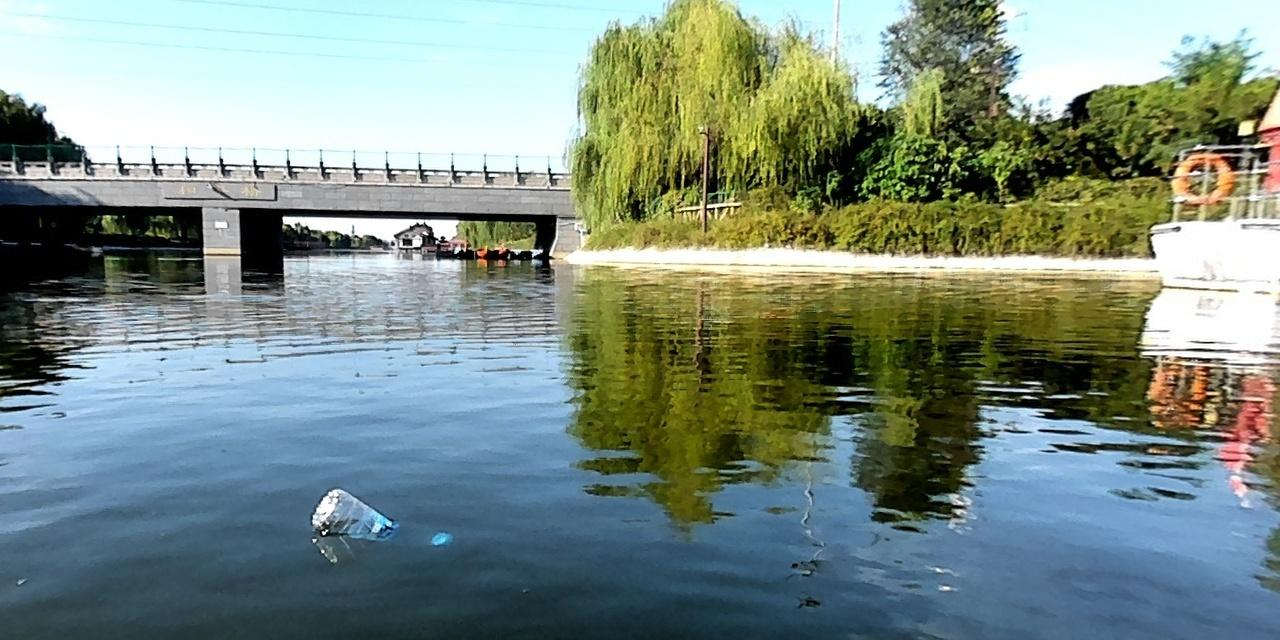bottle: (307, 489, 451, 546)
